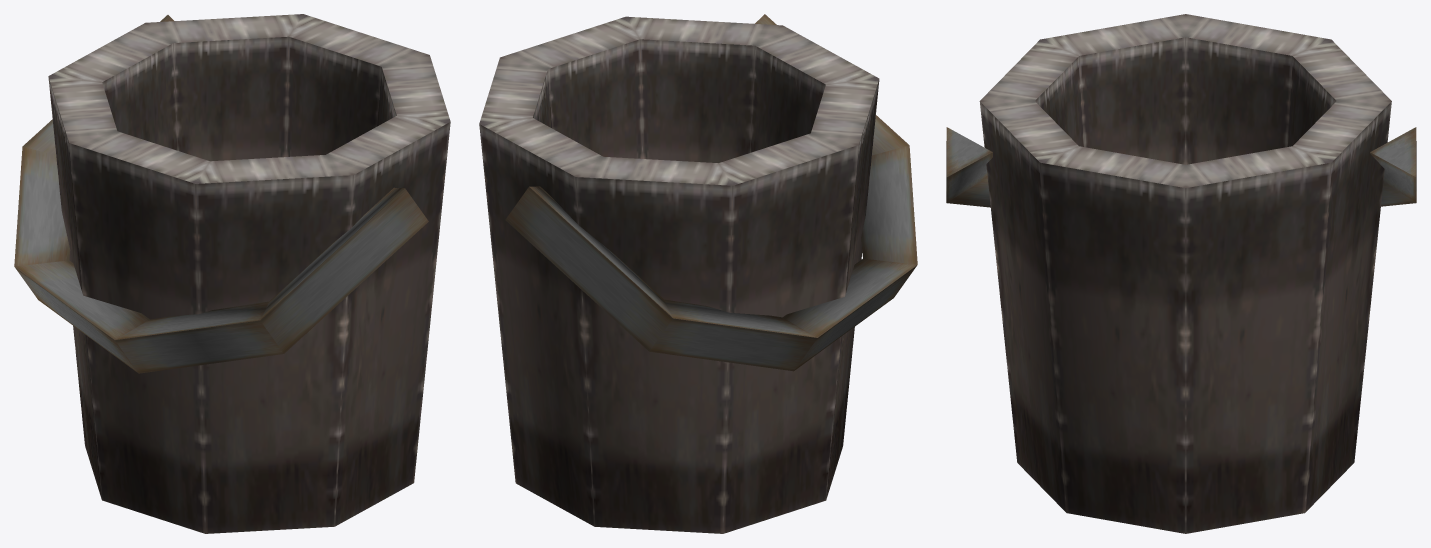
File: bucket.glb
3 renders of one model, left to right at view 1: azimuth 30°, elevation 25°; view 2: azimuth 150°, elevation 25°; view 3: azimuth 270°, elevation 25°, orthographic.
Bounding box in the file's own units: 0.9572 × 0.9095 × 1.07.
2 materials, 2 textured.
